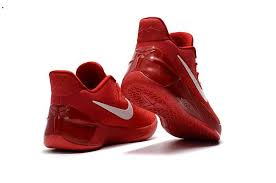nike: (89, 96, 136, 121)
